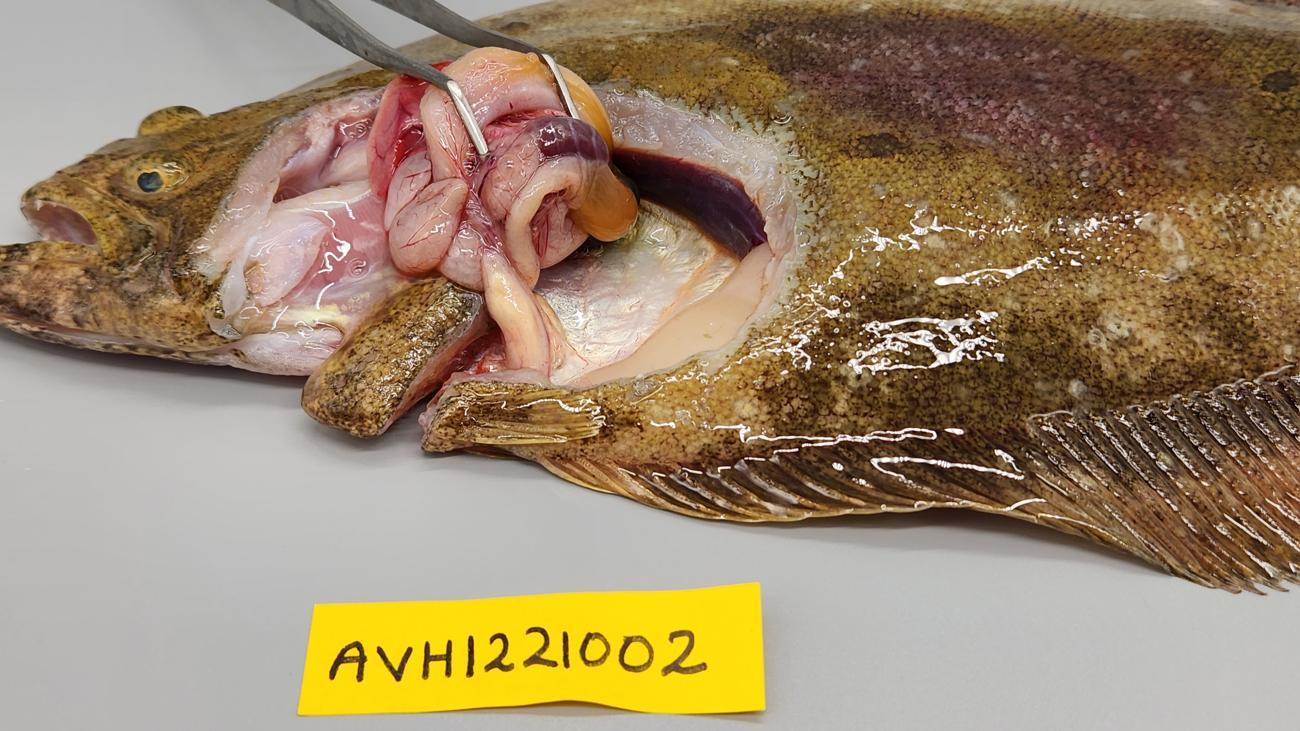VISPE: (540, 121, 608, 163)
